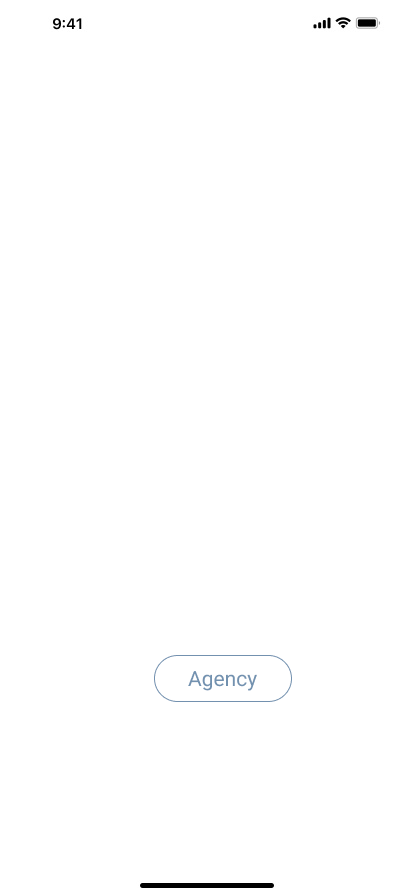Buttons: (154, 655, 300, 702)
Home Indicator: (0, 862, 414, 896)
Status Bar: (0, 0, 414, 44)
